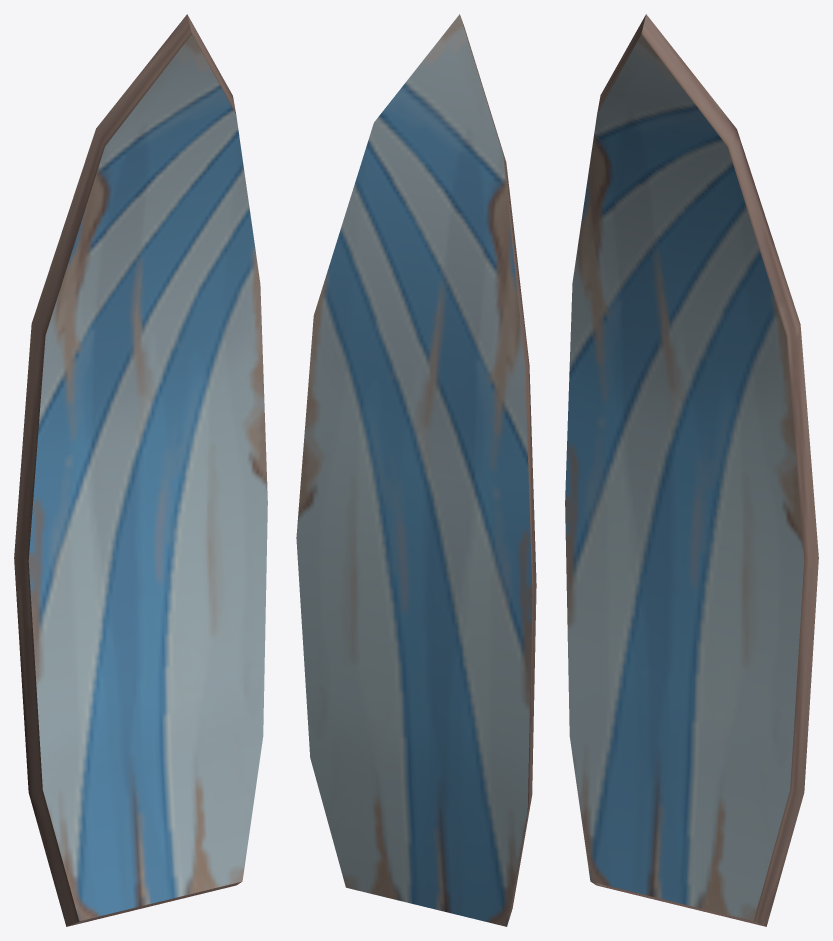
Rendered from Map_05_wooden07.FBX.
3 renders of one model, left to right at view 1: azimuth 30°, elevation 25°; view 2: azimuth 150°, elevation 25°; view 3: azimuth 330°, elevation 25°, orthographic. The views are drawn at different scales.
Visible parts, largest first — view 1: Map_05_wooden07; view 2: Map_05_wooden07; view 3: Map_05_wooden07.
Boxes of the visible parts, bbox=[...] form: Map_05_wooden07: bbox=[14, 14, 267, 926]; Map_05_wooden07: bbox=[296, 14, 536, 926]; Map_05_wooden07: bbox=[565, 14, 818, 926].
Size of the model in its own units: 95.03 by 334 by 34.88.
